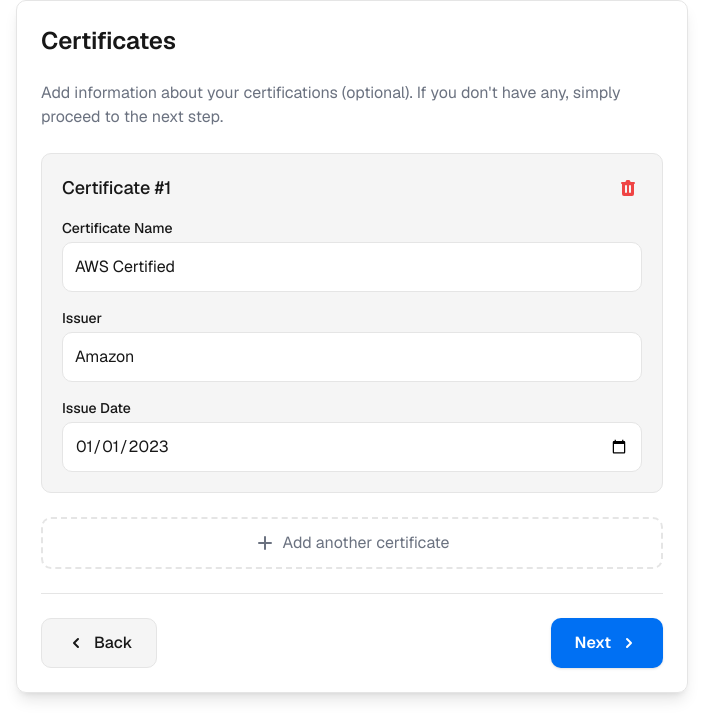
Scenario: CertificatesForm Component › Renderowanie i zachowanie interfejsu › powinien usunąc certyfikat po kliknięciu 'Remove certificate'
What coordinates should you click on to do the following:
click the button named "Remove certificate"
I would click on:
 (628, 188)
Its box is [614,174,642,202].
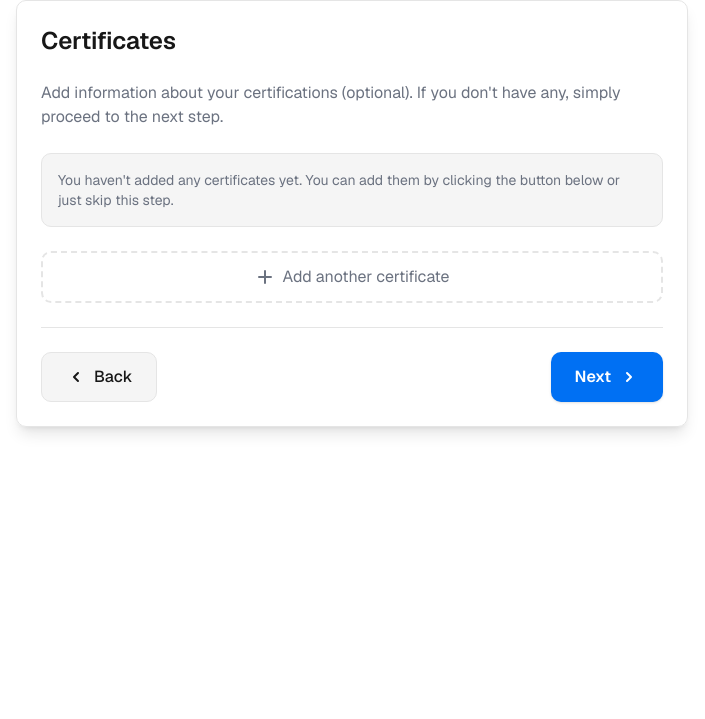
Result: the heading "Certificate #1" is gone
Result: the text "You haven't added any certificates yet" is shown at [58,171,620,209]
